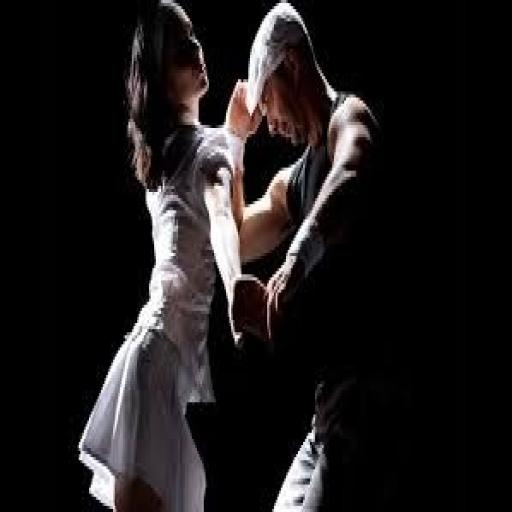dancing: (224, 3, 384, 509)
